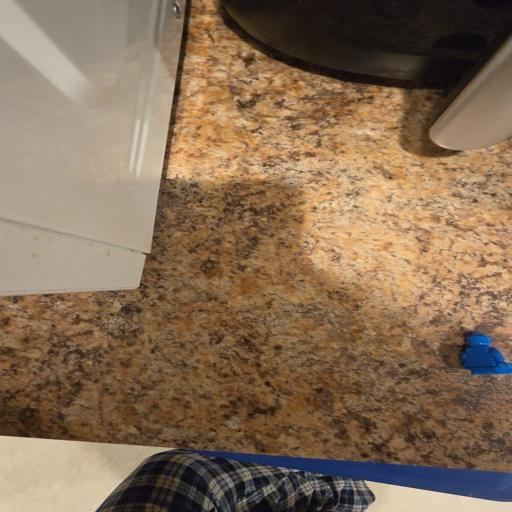Blue: (460, 333, 512, 374)
